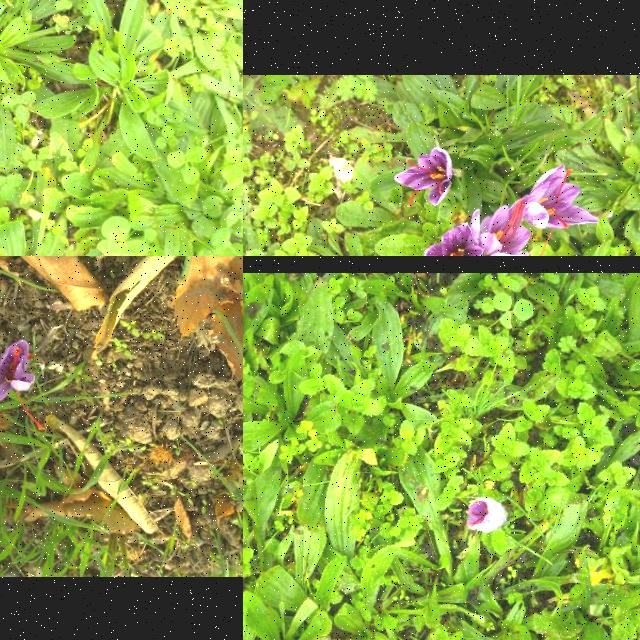flower: (523, 163, 598, 256), (0, 339, 48, 430), (470, 195, 530, 256), (394, 148, 456, 206), (422, 224, 484, 256), (468, 497, 506, 533)
